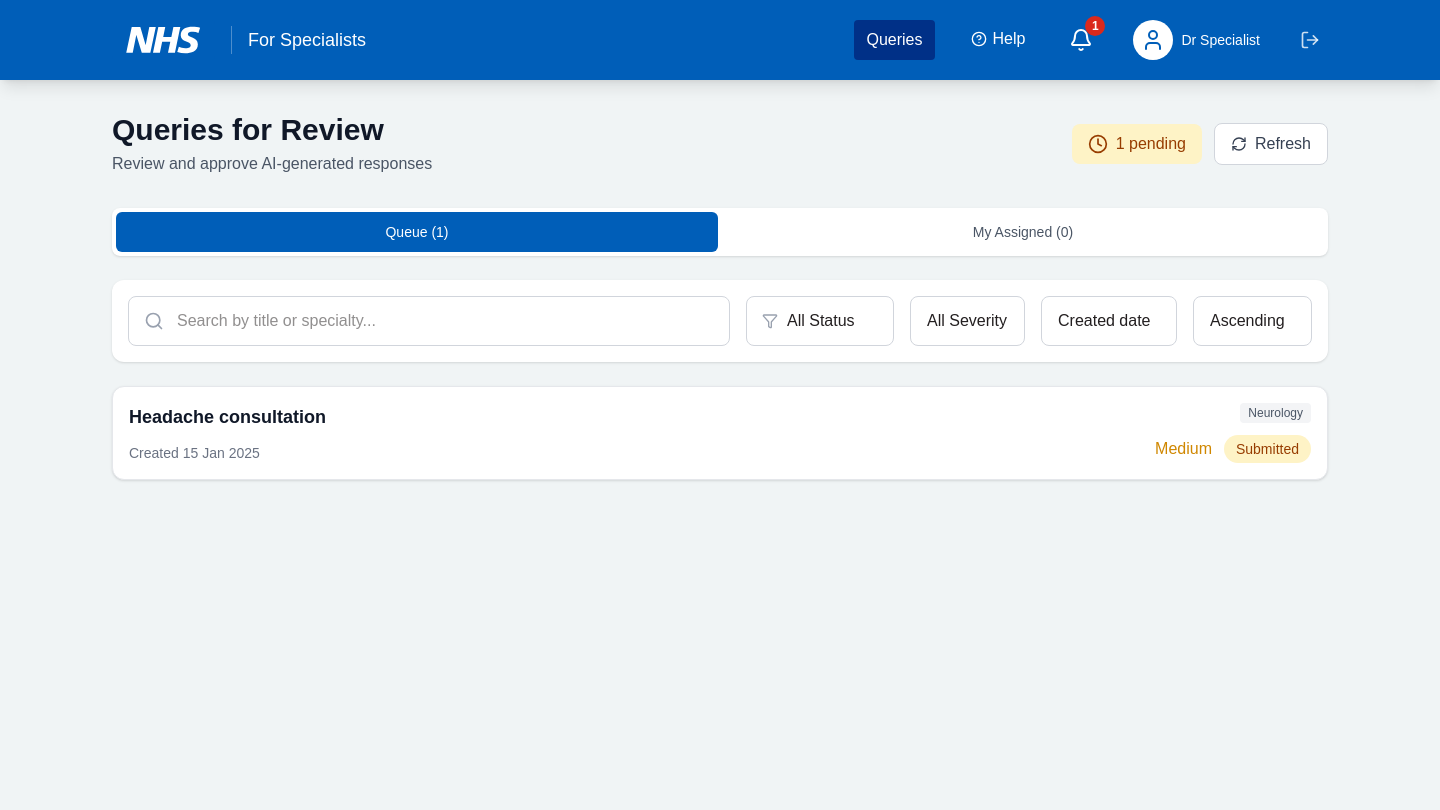
Test: SpecialistQueriesPage › shows empty state for assigned tab with no chats
The image size is (1440, 810).
Click the button "My Assigned (0)".
click(1023, 232)  # box [722, 212, 1324, 252]
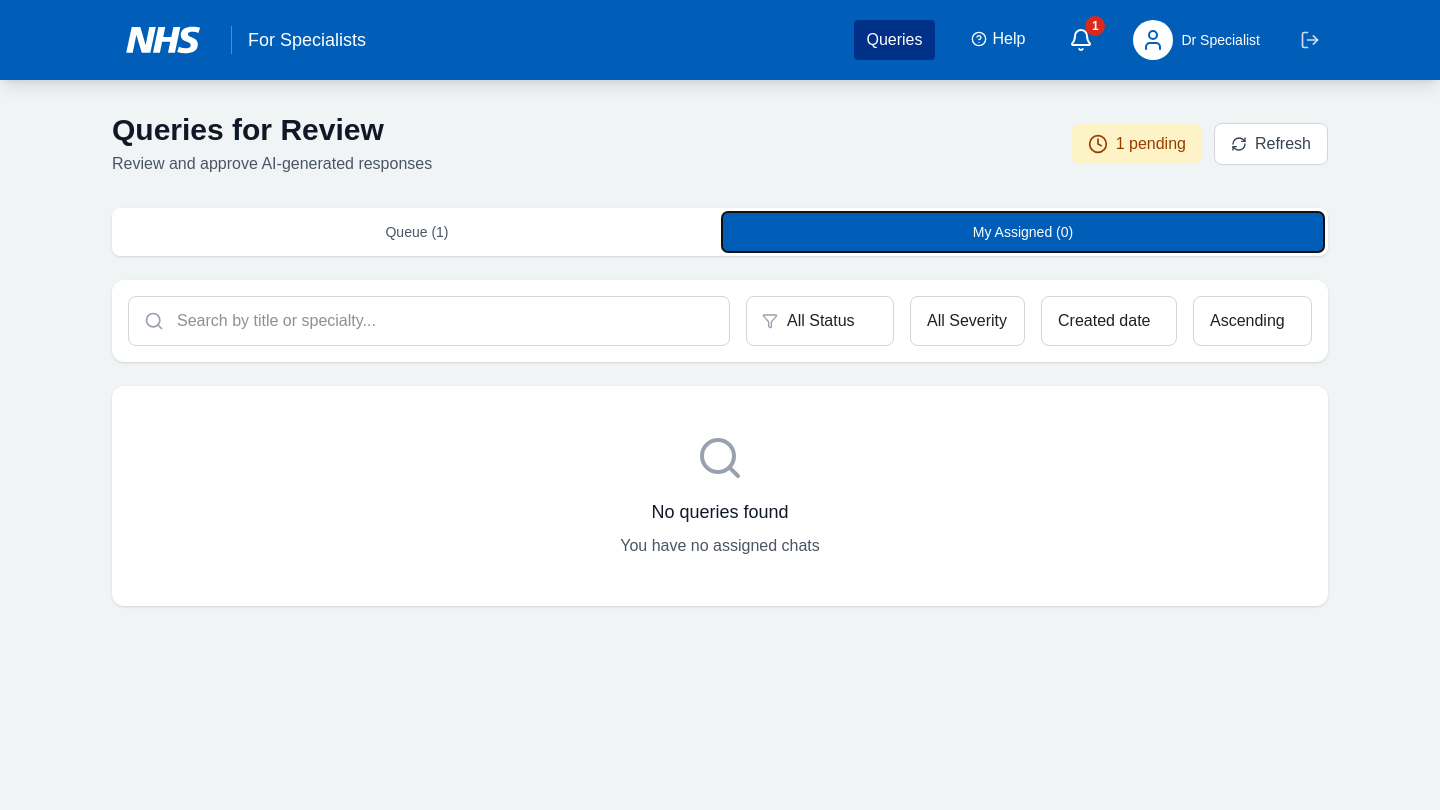
Expected: the heading "No queries found" is shown, [652, 502, 789, 522]
